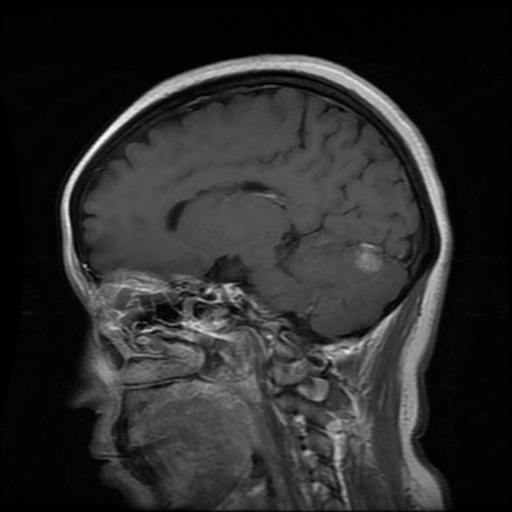meningioma: (356, 241, 383, 271)
